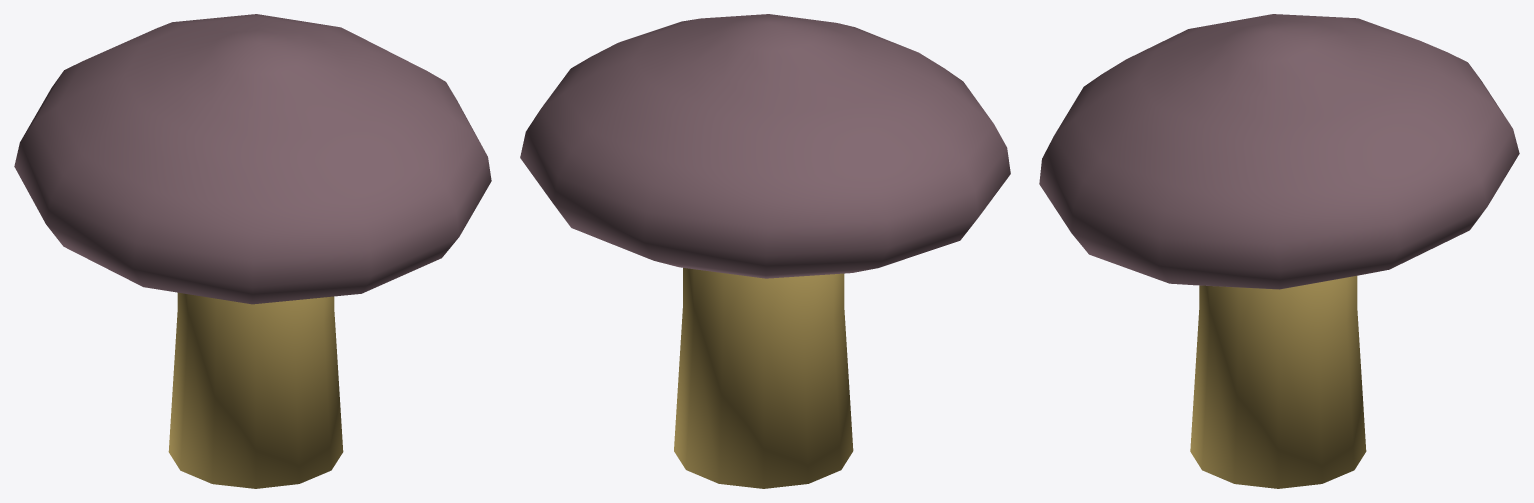
The model's file is ImleriaBadia_big.fbx.
3 views of the same model, side by side, from view 1: azimuth 30°, elevation 25°; view 2: azimuth 150°, elevation 25°; view 3: azimuth 270°, elevation 25° (orthographic). The views are drawn at different scales.
Parts seen in each view (by area): view 1: ImleriaBadia_big; view 2: ImleriaBadia_big; view 3: ImleriaBadia_big.
Boxes of the visible parts, <box> form: ImleriaBadia_big: <box>14,14,491,488</box>; ImleriaBadia_big: <box>520,14,1010,488</box>; ImleriaBadia_big: <box>1039,14,1519,488</box>.
Bounding box in the file's own units: 30.19 × 28.8 × 30.
